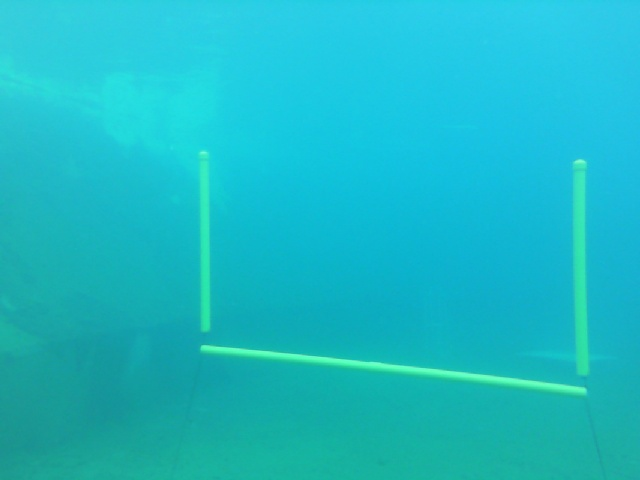channel: (197, 147, 593, 399)
